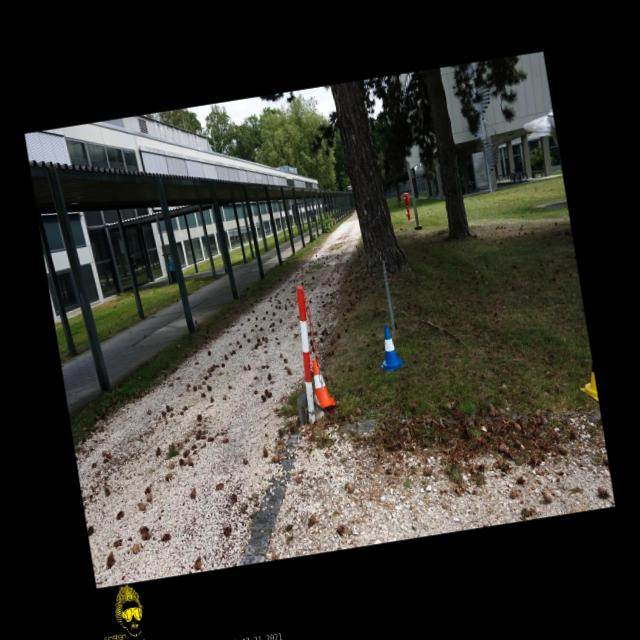blue_cone: (375, 323, 405, 372)
orange_cone: (310, 358, 336, 408)
yellow_cone: (576, 361, 598, 404)
